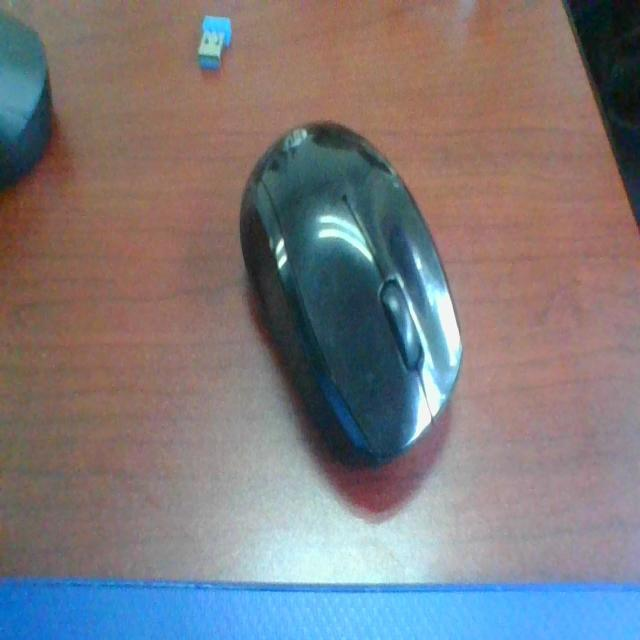mouse: (234, 95, 473, 492)
